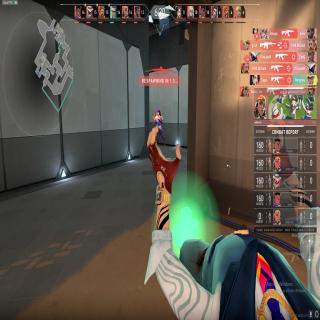ENEMY-BODY: (156, 108, 162, 146)
ENEMY-HEAD: (157, 110, 160, 116)
